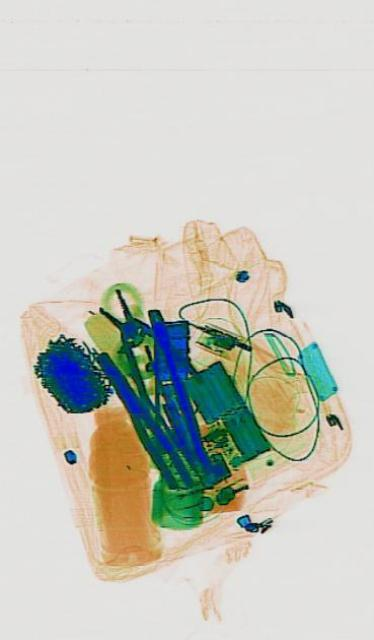Pliers: (86, 261, 202, 437)
